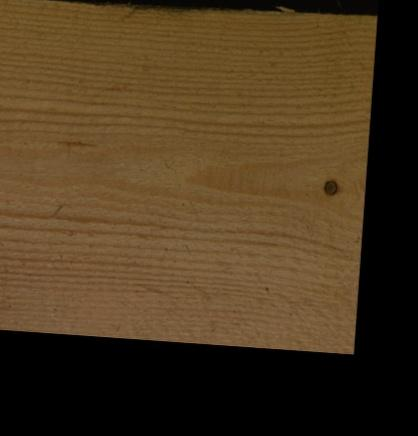dry_knot: (321, 178, 338, 197)
